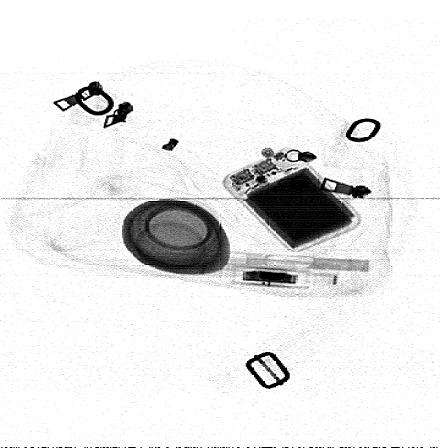Powerbank: (222, 147, 362, 253)
